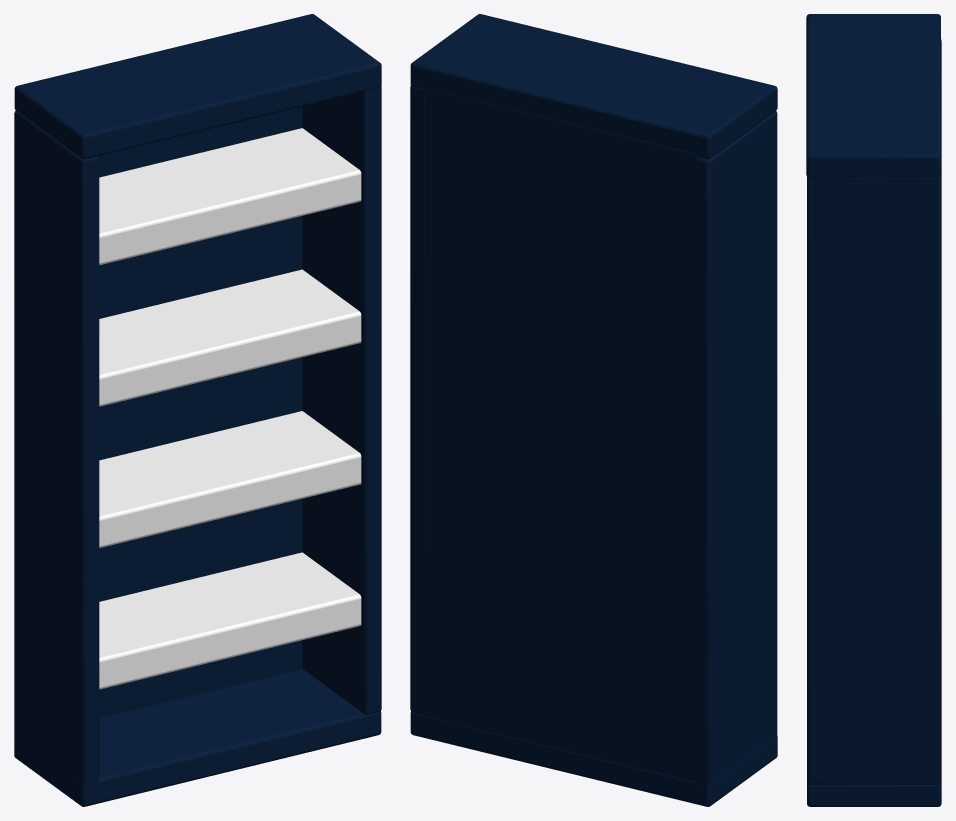
File: SM_Env_ArchiveShelf.fbx
3 renders of one model, left to right at view 1: azimuth 30°, elevation 25°; view 2: azimuth 150°, elevation 25°; view 3: azimuth 270°, elevation 25°, orthographic. The views are drawn at different scales.
Visible parts, largest first — view 1: ArchiveShelf; view 2: ArchiveShelf; view 3: ArchiveShelf.
Part boxes in pixels (bbox=[...]): ArchiveShelf: bbox=[14, 14, 381, 806]; ArchiveShelf: bbox=[410, 14, 777, 806]; ArchiveShelf: bbox=[806, 14, 941, 806].
Bounding box in the file's own units: 0.8666 × 1.85 × 0.3474.
